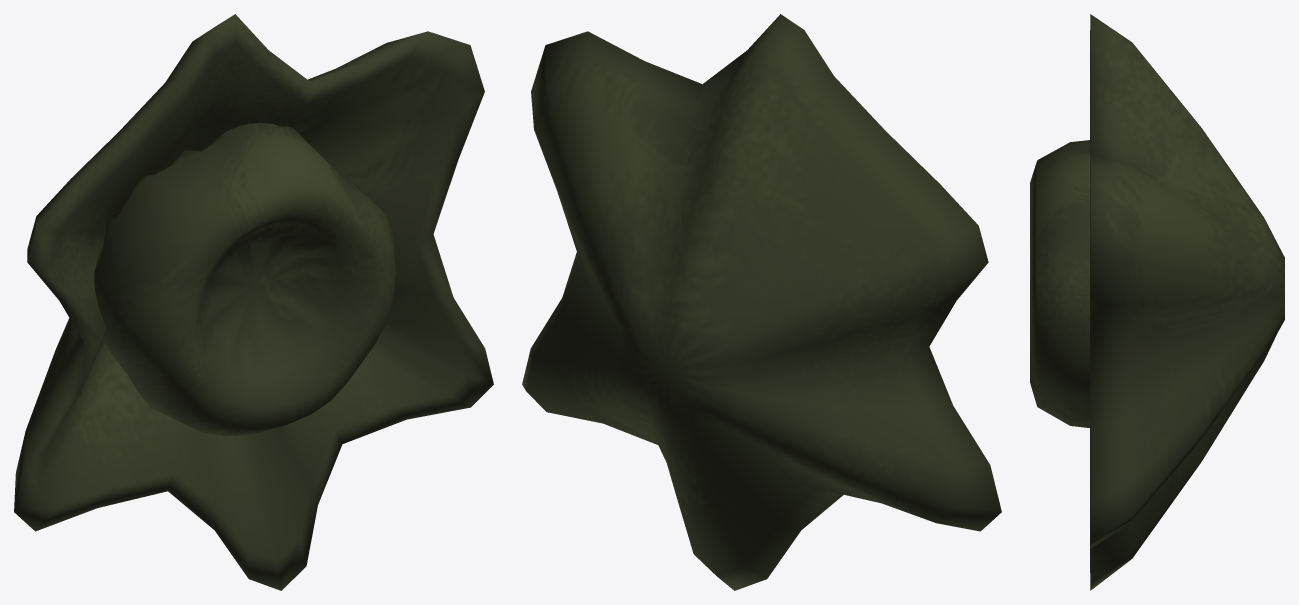
The model's file is OrangeFruitPeduncle.obj.
The picture shows the model from 3 angles, left to right: view 1: azimuth 30°, elevation 25°; view 2: azimuth 150°, elevation 25°; view 3: azimuth 270°, elevation 25°; orthographic projection. The views are drawn at different scales.
Parts seen in each view (by area): view 1: OrangeFruitPeduncle; view 2: OrangeFruitPeduncle; view 3: OrangeFruitPeduncle.
Part boxes in pixels (left/top/right/bottom): OrangeFruitPeduncle: left=14, top=14, right=493, bottom=590; OrangeFruitPeduncle: left=522, top=14, right=1001, bottom=590; OrangeFruitPeduncle: left=1030, top=14, right=1284, bottom=590.
Size of the model in its own units: 0.00487 by 0.00571 by 0.00238.
Materials: 1 (1 with a texture image).
